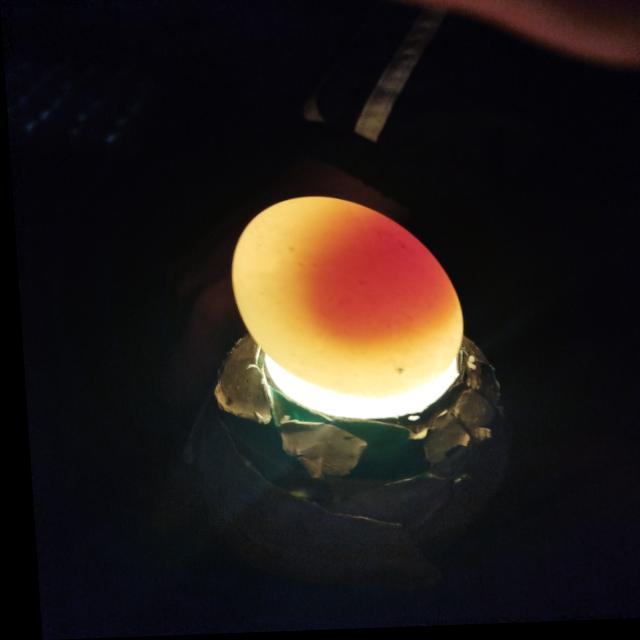Gema Quebrada: (302, 214, 457, 353)
